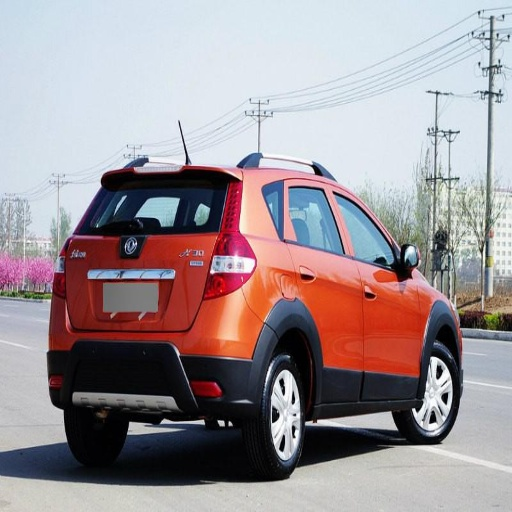back_bumper: (46, 285, 270, 413)
back_right_door: (285, 178, 363, 400)
trunk: (67, 235, 216, 333)
